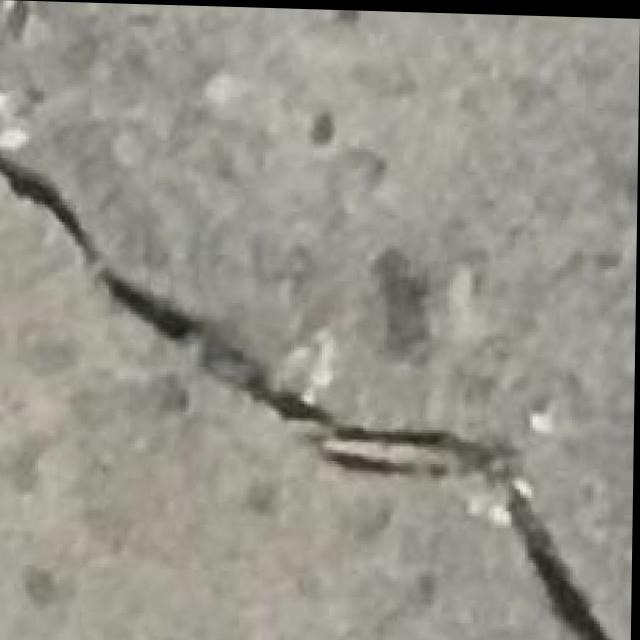Crack: (0, 127, 636, 640)
